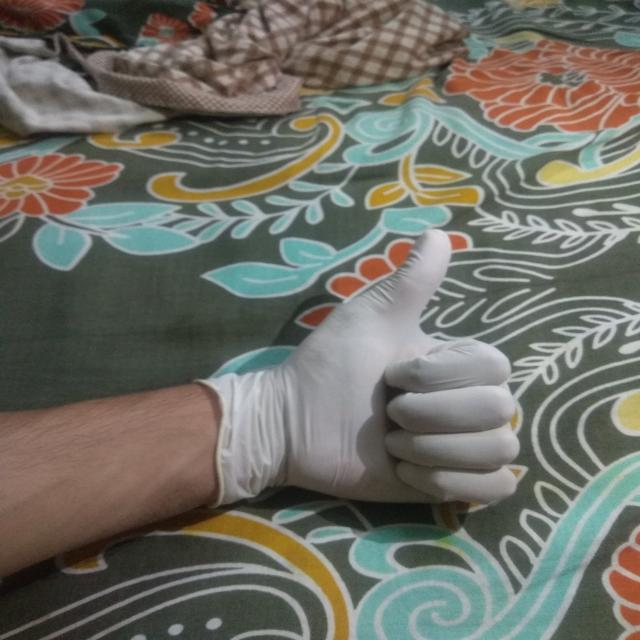glove_hand: (190, 220, 528, 528)
